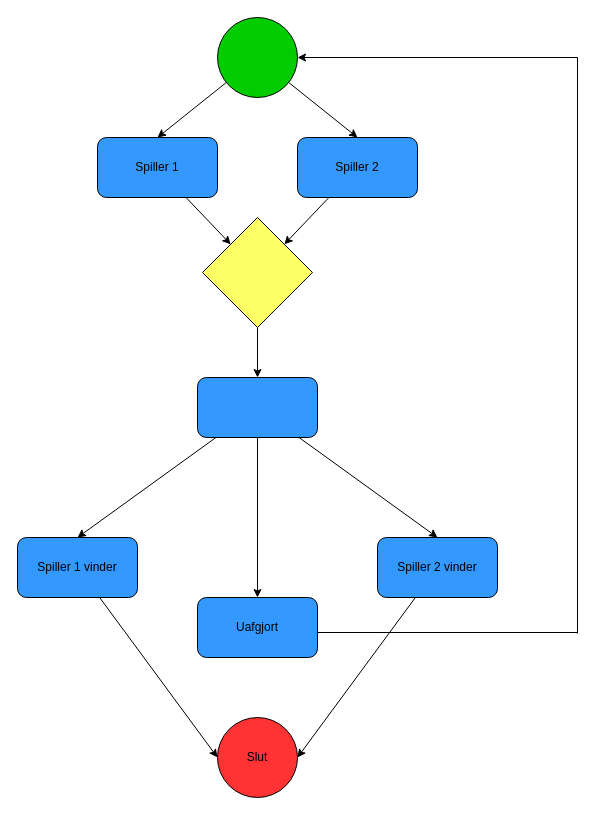
Some shapes in this 603 by 815 pixel diagram are drawn without their labels. The centre of each missing label's shape, as x and y in pixels:
Begge spiller har valgt: point (257, 272)
Sammenlign valg: point (257, 407)
Start: point (257, 57)
